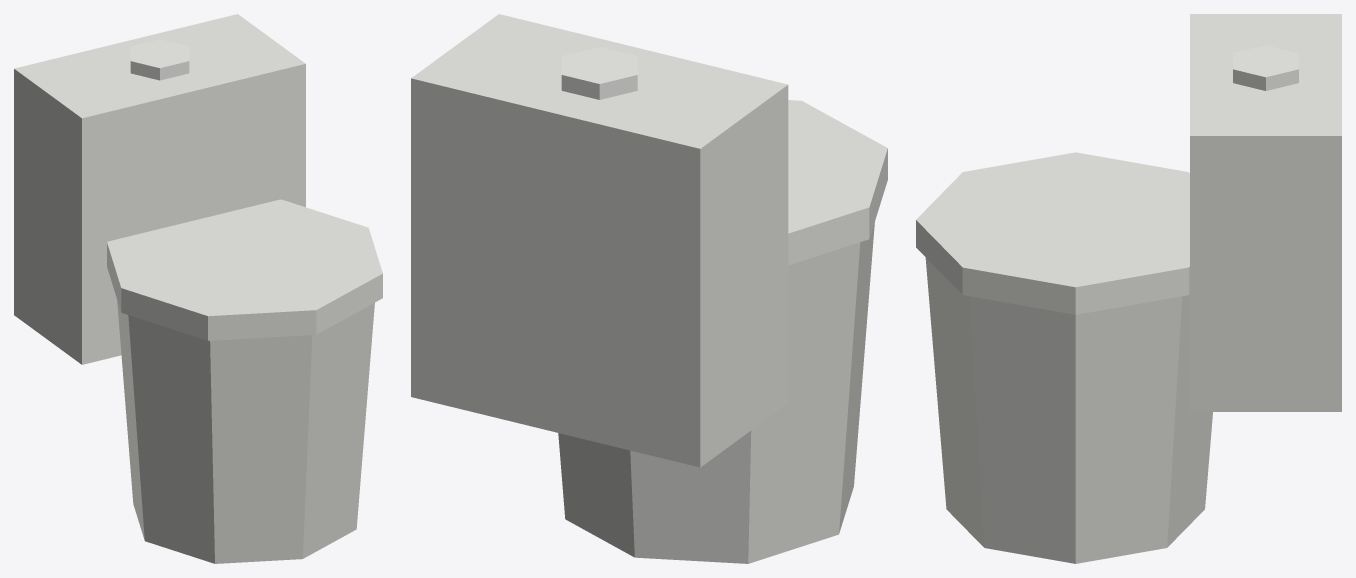
Rendered from GH_Toilet_01.glb.
The picture shows the model from 3 angles, left to right: view 1: azimuth 30°, elevation 25°; view 2: azimuth 150°, elevation 25°; view 3: azimuth 270°, elevation 25°; orthographic projection. The views are drawn at different scales.
Visible parts, largest first — view 1: GH_Toilet_01; view 2: GH_Toilet_01; view 3: GH_Toilet_01.
Part boxes in pixels (bbox=[...]): GH_Toilet_01: bbox=[14, 14, 382, 563]; GH_Toilet_01: bbox=[411, 14, 887, 563]; GH_Toilet_01: bbox=[916, 14, 1341, 563].
Bounding box in the file's own units: 0.42 × 0.65 × 0.56.
Materials: 1 (1 with a texture image).
